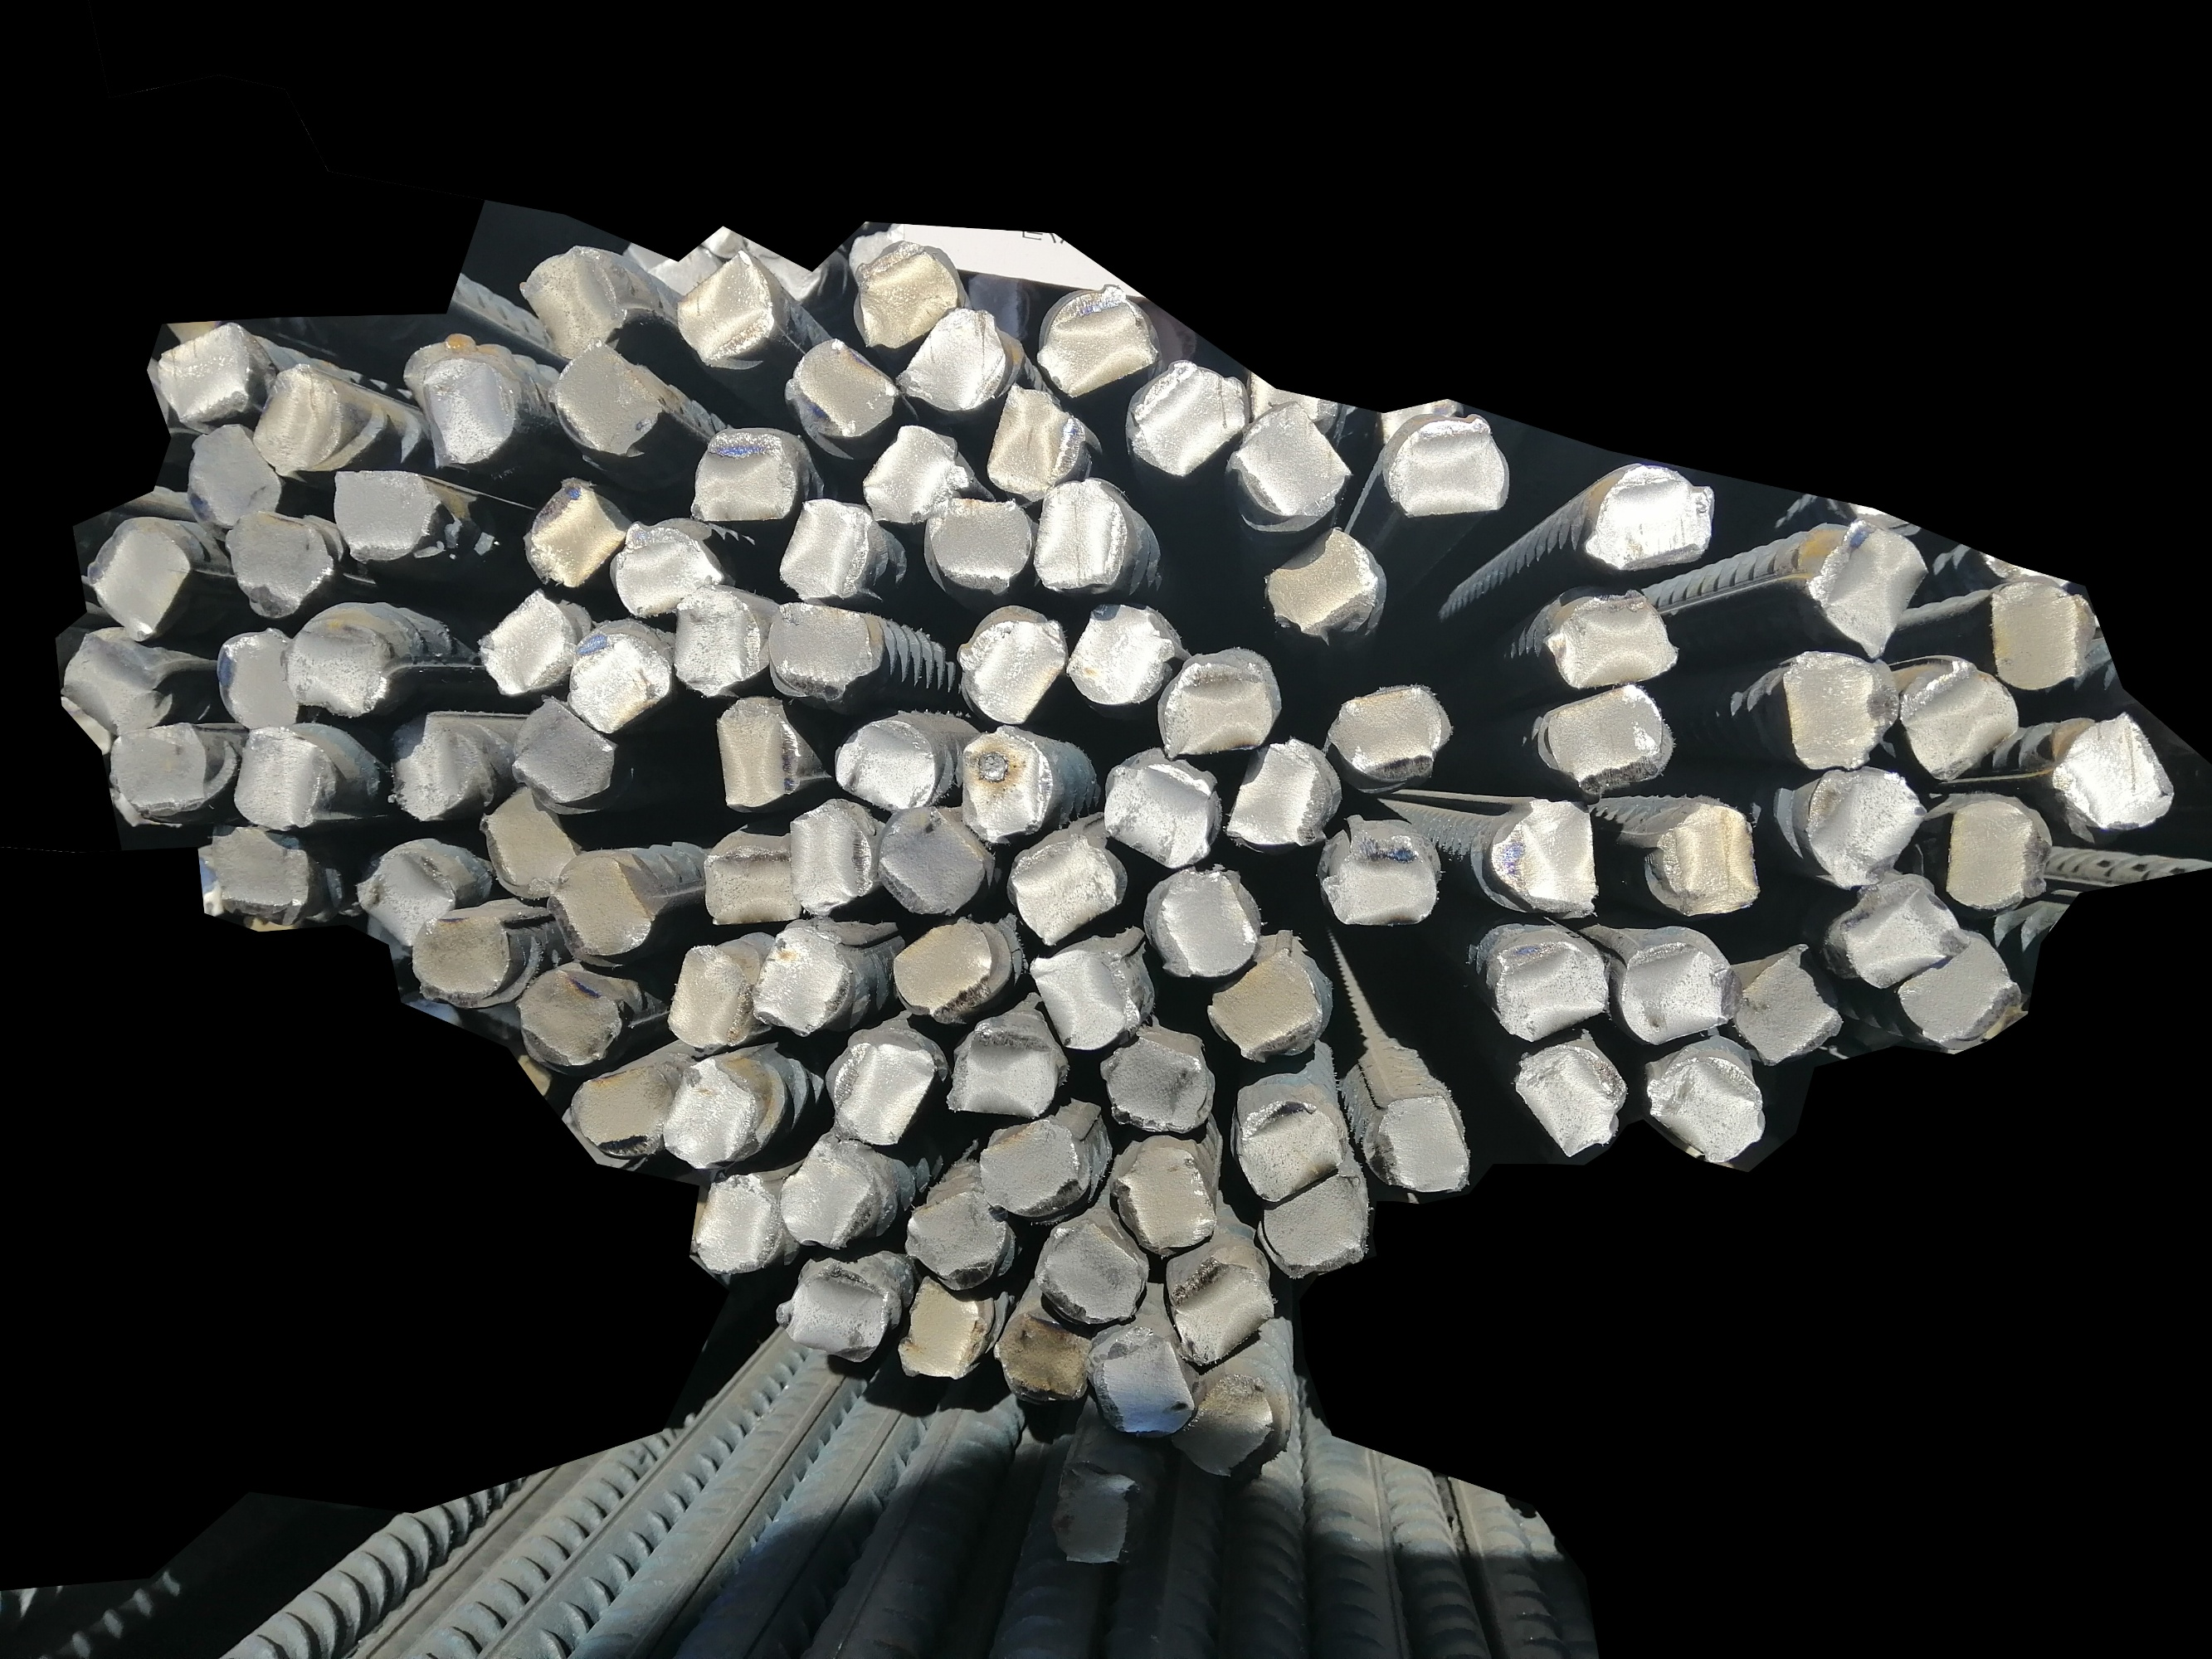rebar: (1808, 516, 1931, 667), (1574, 460, 1719, 575), (1482, 798, 1609, 925), (2046, 713, 2177, 836), (1536, 681, 1677, 795), (1895, 653, 2022, 779), (1780, 640, 1900, 772), (1541, 582, 1686, 692), (1896, 920, 2020, 1047), (1832, 871, 1964, 990), (1028, 281, 1157, 401), (80, 509, 190, 647), (1124, 352, 1248, 474), (1642, 795, 1762, 918), (1616, 934, 1745, 1049), (947, 608, 1069, 728), (1510, 1032, 1630, 1154), (1727, 945, 1844, 1068), (1225, 408, 1347, 525), (518, 235, 633, 359), (1154, 647, 1281, 758), (1647, 1049, 1769, 1164), (1006, 831, 1123, 950), (1804, 765, 1924, 880), (1381, 411, 1504, 523), (1485, 934, 1611, 1044), (1325, 678, 1454, 784), (1938, 793, 2055, 910), (1316, 821, 1438, 932), (551, 340, 662, 460), (673, 247, 779, 373), (1262, 528, 1377, 643), (1166, 1370, 1279, 1486), (892, 301, 1009, 415), (662, 1047, 767, 1173), (1358, 1084, 1471, 1199), (1224, 739, 1335, 856), (1984, 573, 2093, 692), (1147, 871, 1260, 985), (896, 1180, 1008, 1295), (1166, 1251, 1278, 1366), (248, 361, 357, 477), (885, 917, 1004, 1025), (851, 237, 964, 349), (1107, 1141, 1222, 1251), (1210, 950, 1321, 1061), (148, 314, 256, 429), (1236, 1093, 1344, 1208), (511, 695, 617, 812), (56, 626, 173, 732), (1037, 1209, 1143, 1326), (779, 335, 898, 439), (415, 352, 516, 474), (824, 1037, 934, 1148), (695, 823, 809, 931), (987, 378, 1089, 497), (610, 511, 720, 620), (1260, 1169, 1370, 1279), (223, 509, 335, 617), (563, 619, 671, 730), (1027, 945, 1138, 1053), (1103, 760, 1215, 868), (959, 721, 1055, 847), (751, 920, 851, 1040), (767, 592, 875, 702), (1065, 601, 1175, 709), (286, 612, 392, 723), (1102, 1030, 1213, 1136), (1093, 1326, 1198, 1439), (950, 1021, 1065, 1124), (328, 464, 444, 565), (1051, 1452, 1142, 1581), (512, 965, 622, 1072), (568, 1053, 678, 1157), (777, 1262, 887, 1366), (927, 491, 1037, 596), (230, 720, 333, 831), (183, 422, 284, 535), (687, 420, 800, 521), (875, 803, 974, 918), (479, 782, 577, 899), (1030, 476, 1128, 592), (551, 852, 652, 964), (521, 479, 622, 591), (830, 709, 938, 812), (858, 422, 966, 525), (779, 1136, 872, 1255), (101, 720, 211, 819), (479, 589, 575, 701), (664, 938, 755, 1054), (207, 821, 310, 924), (357, 843, 458, 948), (786, 800, 872, 924), (974, 1119, 1081, 1218), (777, 497, 875, 605), (711, 690, 798, 810), (411, 906, 518, 1004), (385, 711, 478, 823), (896, 1270, 987, 1384), (673, 582, 762, 697), (211, 626, 303, 734), (995, 1309, 1089, 1405), (695, 1173, 779, 1276)
